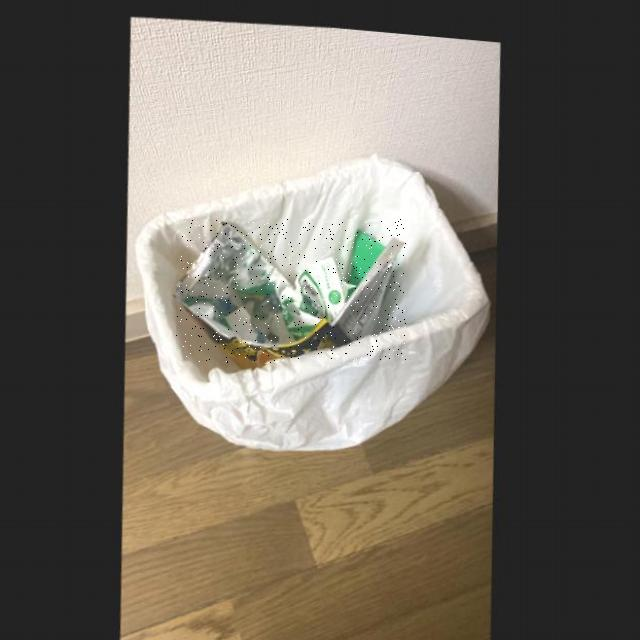paper: (282, 251, 359, 333), (348, 223, 387, 295)
wrapper: (176, 220, 406, 364)
